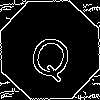Q: (25, 25, 79, 84)
